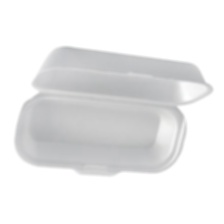foam_box: (7, 41, 217, 183)
